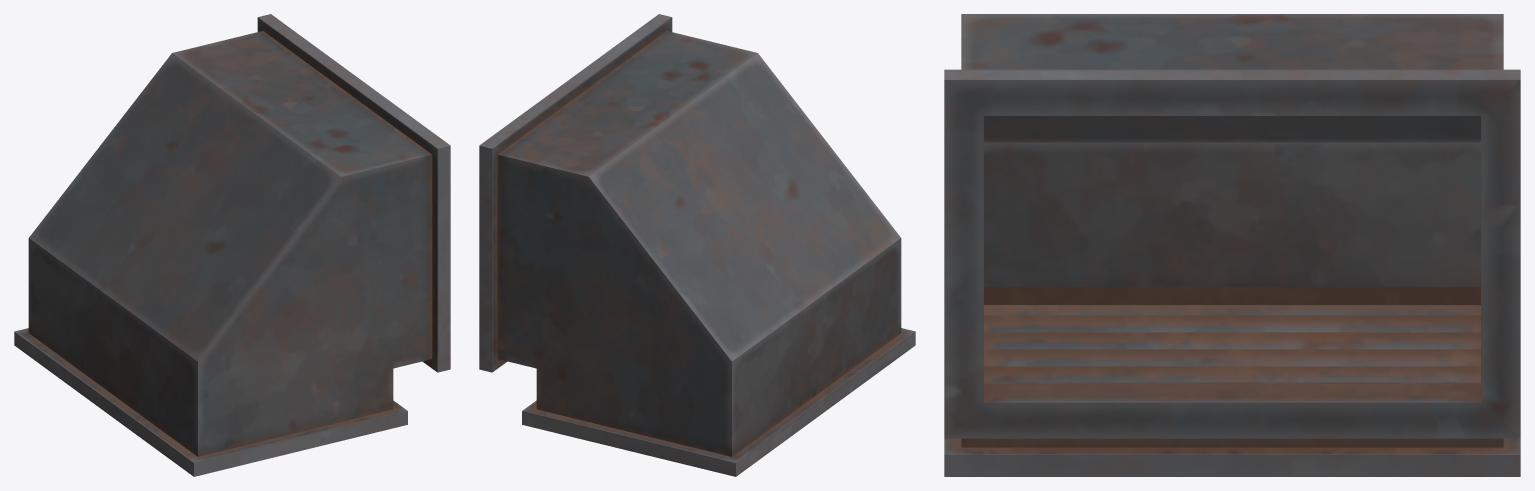
File: Vent_Edge_A.fbx
The picture shows the model from 3 angles, left to right: view 1: azimuth 30°, elevation 25°; view 2: azimuth 150°, elevation 25°; view 3: azimuth 270°, elevation 25°; orthographic projection. The views are drawn at different scales.
Visible parts, largest first — view 1: Cube.001; view 2: Cube.001; view 3: Cube.001.
Boxes of the visible parts, x1,y1,x2,y2 form: Cube.001: [14, 14, 450, 476]; Cube.001: [479, 14, 915, 476]; Cube.001: [944, 14, 1520, 476].
Size of the model in its own units: 131 by 131 by 159.
